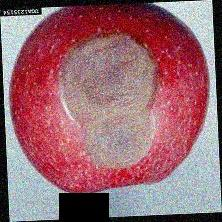rotten apple: (8, 6, 213, 195)
